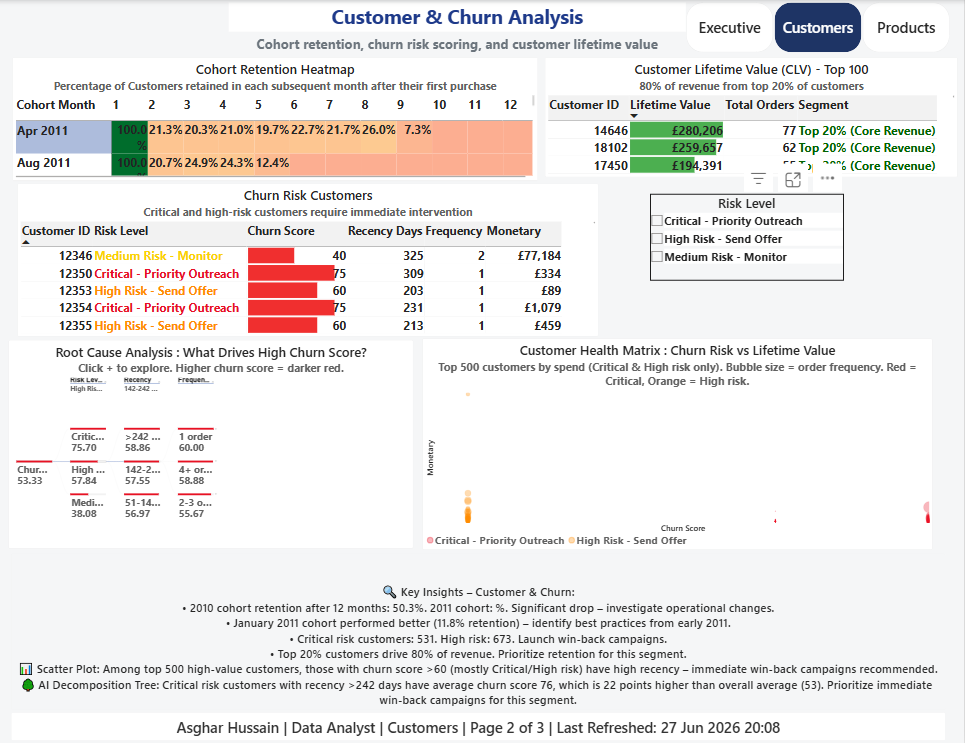

Layout of this report page (visuals, bound fields, positions):
{"tool":"powerbi","page":{"name":"Customers","canvas":[5222,4111],"ordinal":1},"visuals":[{"type":"textbox","box":[1248,17,2496,159],"z":0},{"type":"textbox","box":[1344,192,2304,107],"z":1000},{"type":"pivotTable","title":"Cohort Retention Heatmap ","fields":{"Columns":["vw_cohort_retention.month_offset"],"Values":["vw_cohort_retention.Retention Rate"],"Rows":["vw_cohort_retention.cohort_month_formatted"]},"box":[70,312,2866,672],"z":2000},{"type":"tableEx","title":"Customer Lifetime Value (CLV) - Top 100","fields":{"Values":["vw_clv_pareto.customerid","Sum(vw_clv_pareto.lifetime_value)","Sum(vw_clv_pareto.total_orders)","vw_clv_pareto.segment"]},"box":[2976,310,2208,672],"z":3000},{"type":"tableEx","title":"Churn Risk Customers","fields":{"Values":["vw_churn_risk.customerid","vw_churn_risk.risk_level","Sum(vw_churn_risk.churn_score)","Sum(vw_churn_risk.recency_days)","Sum(vw_churn_risk.frequency)","Sum(vw_churn_risk.monetary)"]},"box":[96,1000,3172,833],"z":4000},{"type":"slicer","title":"Risk Level","fields":{"Values":["vw_churn_risk.risk_level"]},"box":[3552,1056,1056,480],"z":5000},{"type":"card","fields":{"Values":["MeasuresTable.Page2 Insights"]},"box":[96,3020,4992,1056],"z":6000},{"type":"decompositionTreeVisual","title":"Root Cause Analysis : What Drives High Churn Score?","fields":{"Analyze":["Avg(vw_churn_risk.churn_score)"],"ExplainBy":["vw_churn_risk.risk_level","vw_churn_risk.Recency Group","vw_churn_risk.Frequency Group","vw_churn_risk.Return Group","vw_churn_risk.Monetary Group"]},"box":[50,1854,2208,1138],"z":7000},{"type":"pageNavigator","box":[3744,16,1440,272],"z":8000},{"type":"scatterChart","title":"Customer Health Matrix : Churn Risk vs Lifetime Value ","fields":{"Category":["vw_churn_risk.customerid"],"X":["Avg(vw_churn_risk.churn_score)"],"Y":["vw_churn_risk.monetary"],"Series":["vw_churn_risk.risk_level"],"Size":["Avg(vw_churn_risk.frequency)"]},"box":[2304,1853,2784,1152],"z":9000}]}

Visuals, with their boxes in screenshot pixels (x1, y1, x2, y2), scaled from the page's 5222x4111 canvas onto the 965x743 screenshot:
textbox: [x1=231, y1=3, x2=692, y2=32]
textbox: [x1=248, y1=35, x2=674, y2=54]
"Cohort Retention Heatmap " pivotTable: [x1=13, y1=56, x2=543, y2=178]
"Customer Lifetime Value (CLV) - Top 100" tableEx: [x1=550, y1=56, x2=958, y2=177]
"Churn Risk Customers" tableEx: [x1=18, y1=181, x2=604, y2=331]
"Risk Level" slicer: [x1=656, y1=191, x2=852, y2=278]
card - MeasuresTable.Page2 Insights: [x1=18, y1=546, x2=940, y2=737]
"Root Cause Analysis : What Drives High Churn Score?" decompositionTreeVisual: [x1=9, y1=335, x2=417, y2=541]
pageNavigator: [x1=692, y1=3, x2=958, y2=52]
"Customer Health Matrix : Churn Risk vs Lifetime Value " scatterChart: [x1=426, y1=335, x2=940, y2=543]
